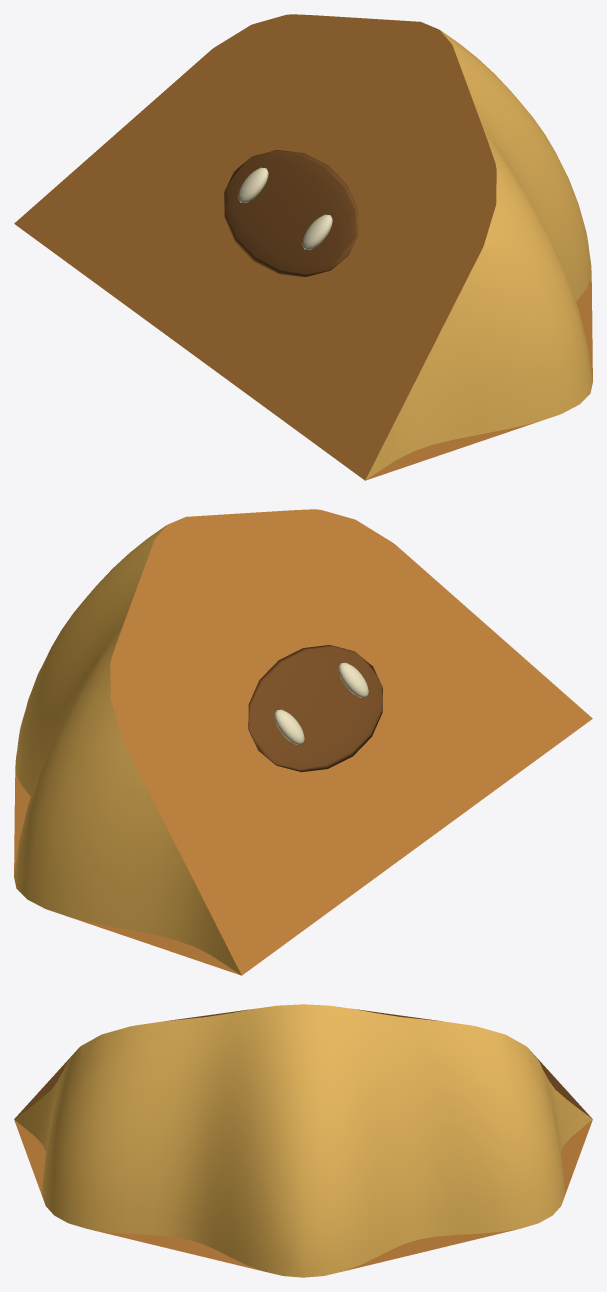
File: event_golden_chunk.glb
3 views of the same model, one above another, from view 1: azimuth 30°, elevation 25°; view 2: azimuth 150°, elevation 25°; view 3: azimuth 270°, elevation 25° (orthographic). The views are drawn at different scales.
Visible parts, largest first — view 1: Prepared right half, Eighth seed chamber, Eighth seed.001, Eighth seed; view 2: Prepared right half, Eighth seed chamber, Eighth seed, Eighth seed.001; view 3: Prepared right half.
Boxes of the visible parts, x1=… form: Prepared right half: x1=14, y1=14, x2=592, y2=480; Eighth seed chamber: x1=224, y1=150, x2=358, y2=277; Eighth seed.001: x1=302, y1=214, x2=332, y2=249; Eighth seed: x1=238, y1=167, x2=268, y2=202; Prepared right half: x1=14, y1=509, x2=592, y2=975; Eighth seed chamber: x1=248, y1=645, x2=382, y2=772; Eighth seed: x1=274, y1=709, x2=304, y2=744; Eighth seed.001: x1=338, y1=662, x2=368, y2=697; Prepared right half: x1=14, y1=1004, x2=592, y2=1277.
Bounding box in the file's own units: 0.6727 × 0.4274 × 1.04.
